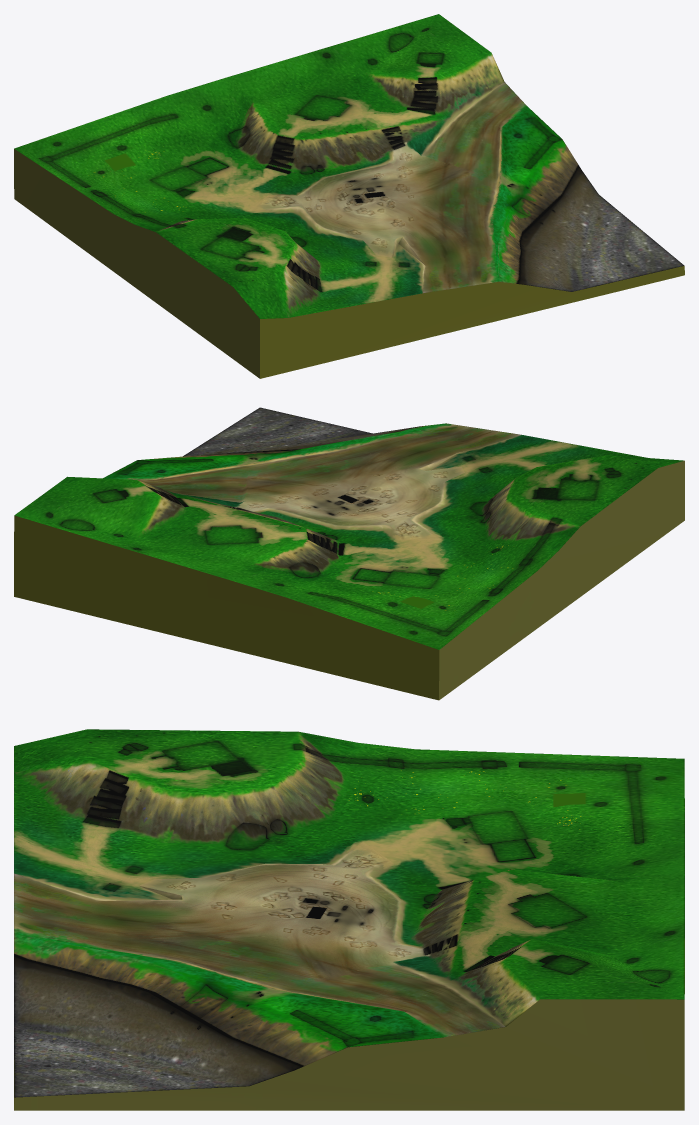
3 renders of one model, top to bottom at view 1: azimuth 30°, elevation 25°; view 2: azimuth 150°, elevation 25°; view 3: azimuth 270°, elevation 25°, orthographic. The views are drawn at different scales.
Parts seen in each view (by area): view 1: earth_earth_0; view 2: earth_earth_0; view 3: earth_earth_0.
Boxes of the visible parts, left/top/right/bottom form: earth_earth_0: left=14, top=14, right=684, bottom=378; earth_earth_0: left=14, top=407, right=684, bottom=700; earth_earth_0: left=14, top=729, right=684, bottom=1110.
Size of the model in its own units: 4232 by 775 by 4241.
